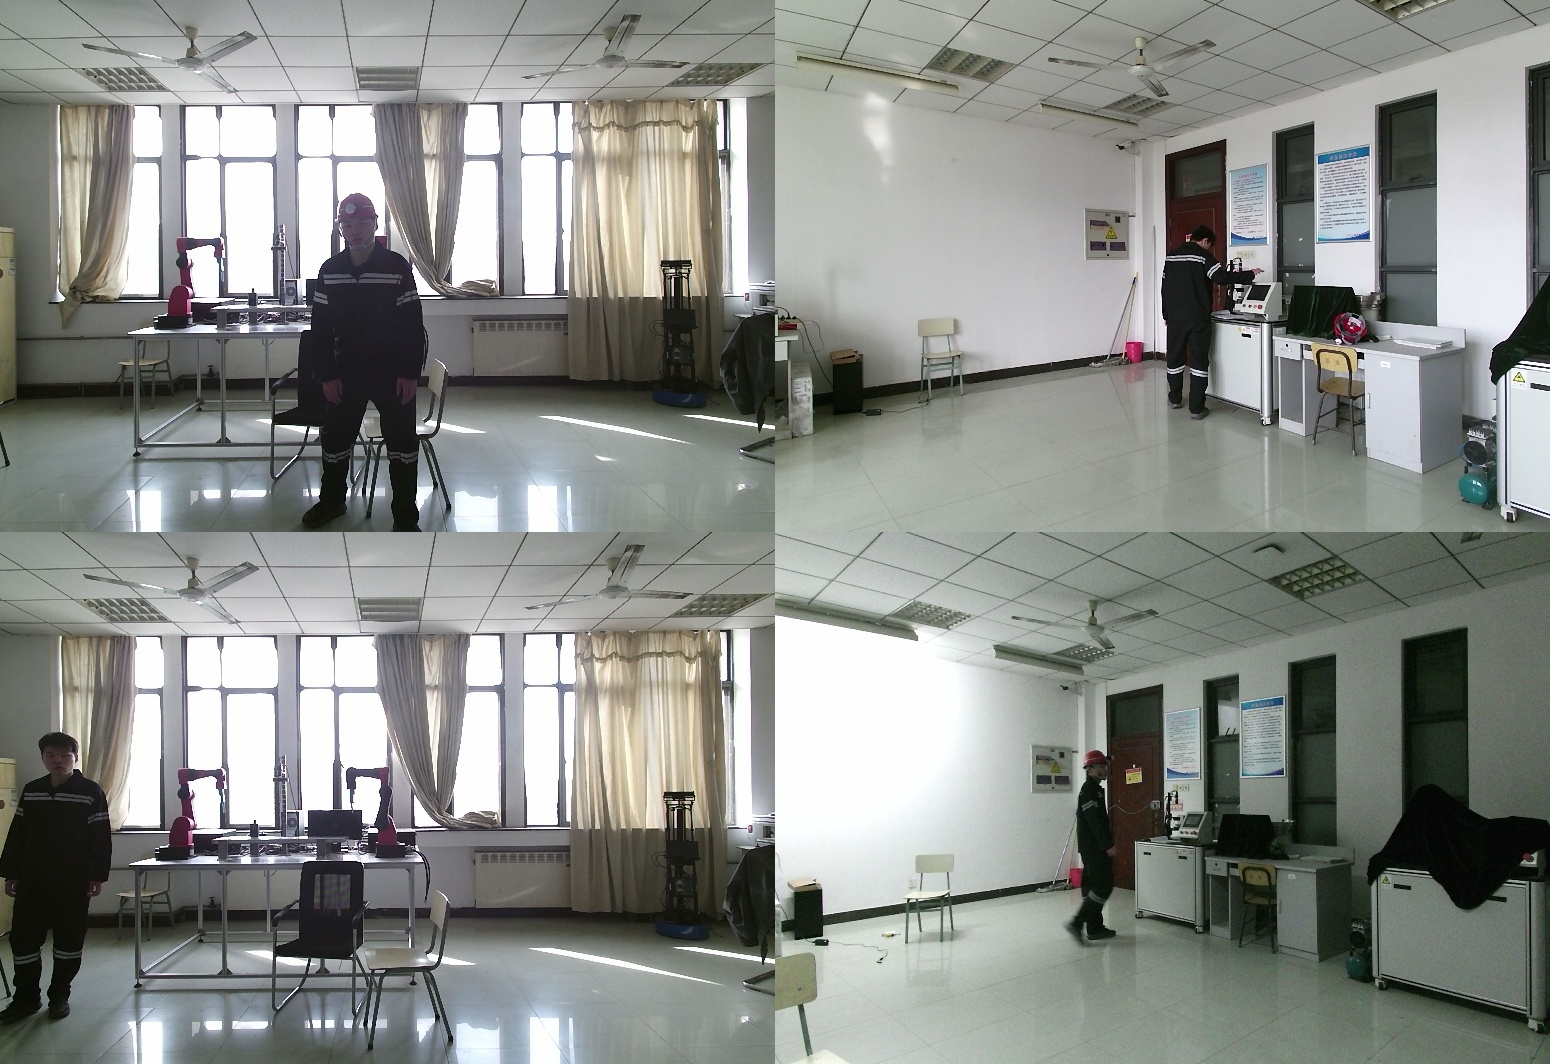person: (303, 191, 440, 532), (3, 732, 118, 1019), (1161, 231, 1275, 420), (1055, 752, 1119, 953)
